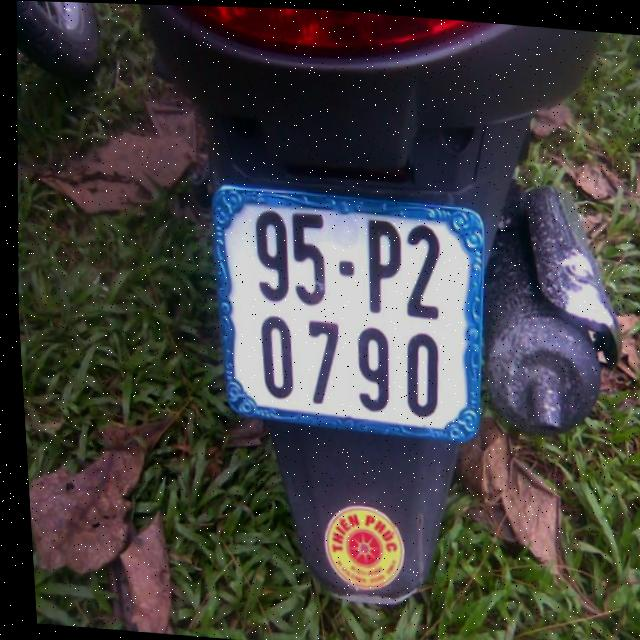motorcycle: (96, 3, 640, 631)
plate: (198, 184, 495, 451)
